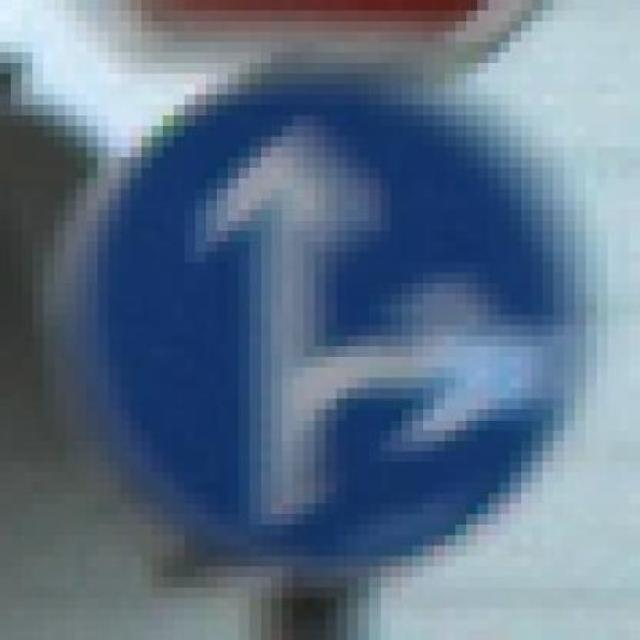Go Straight or Turn Right: (43, 84, 608, 578)
